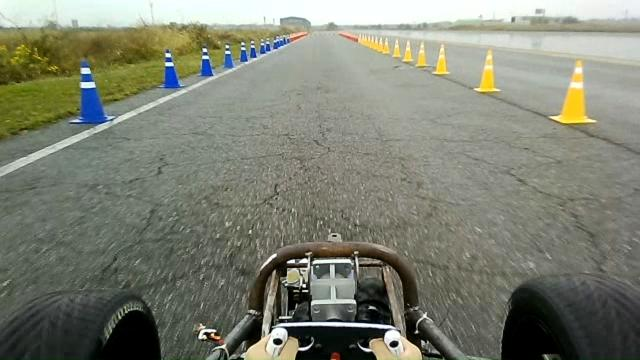blue cone: (68, 59, 115, 124), (157, 48, 185, 89), (197, 44, 214, 77), (222, 43, 235, 68), (239, 41, 248, 62)
yellow cone: (548, 59, 597, 124), (473, 48, 501, 93), (432, 43, 450, 75), (415, 40, 429, 67), (402, 40, 413, 62), (392, 38, 401, 58)
